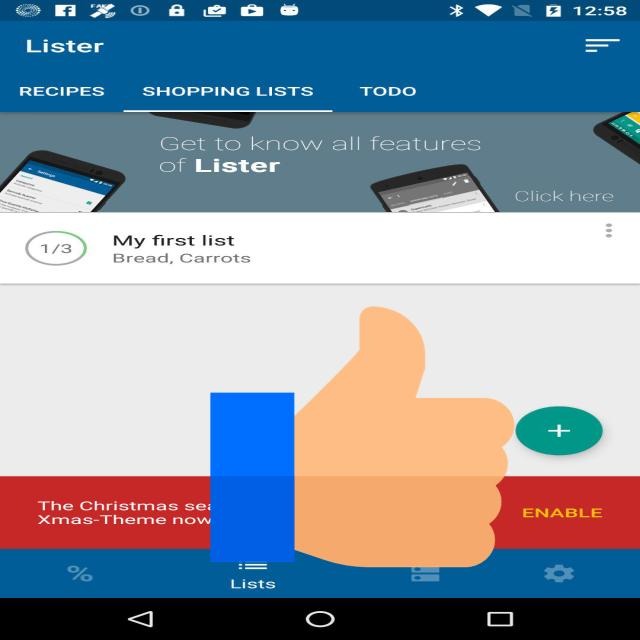privacy zuckering: (210, 300, 514, 574)
